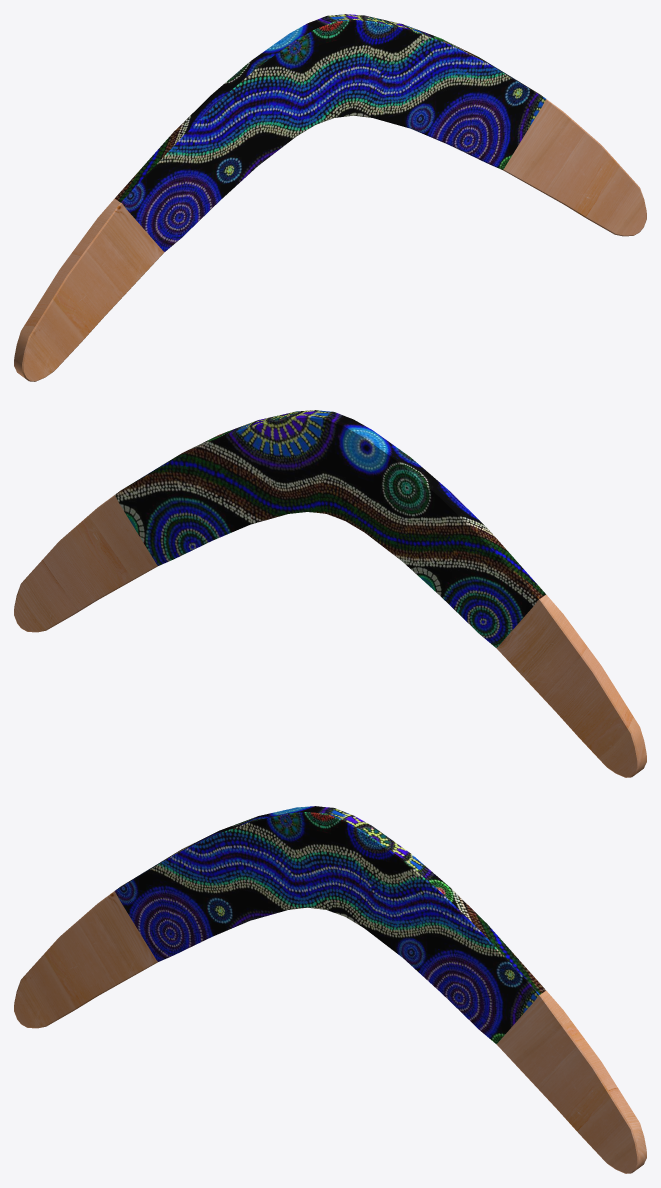
File: boomerang.fbx
3 views of the same model, one above another, from view 1: azimuth 30°, elevation 25°; view 2: azimuth 150°, elevation 25°; view 3: azimuth 330°, elevation 25° (orthographic).
Visible parts, largest first — view 1: pCube1; view 2: pCube1; view 3: pCube1.
Part boxes in pixels (box(x1,y1,x2,y2)): pCube1: box(14, 14, 646, 381); pCube1: box(14, 410, 646, 777); pCube1: box(14, 806, 646, 1173).
Size of the model in its own units: 17.61 by 7.73 by 0.4475.
